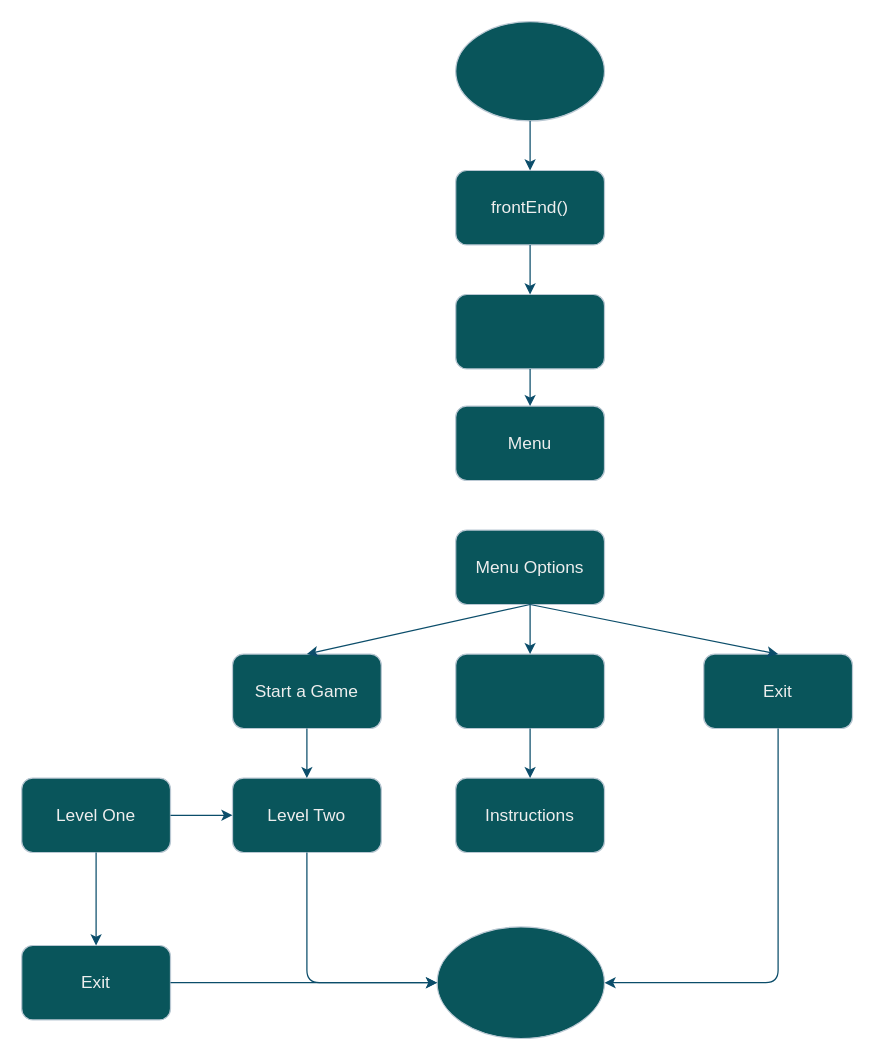
Some shapes in this 874 by 1060 pixel diagram are drawn without their labels. The box of each missing label's shape, as (x1, y1, x2, y2) in pixels:
End: (436, 926, 604, 1038)
How to play: (454, 653, 604, 728)
print Welcome: (454, 293, 604, 369)
Start: (454, 20, 604, 121)
